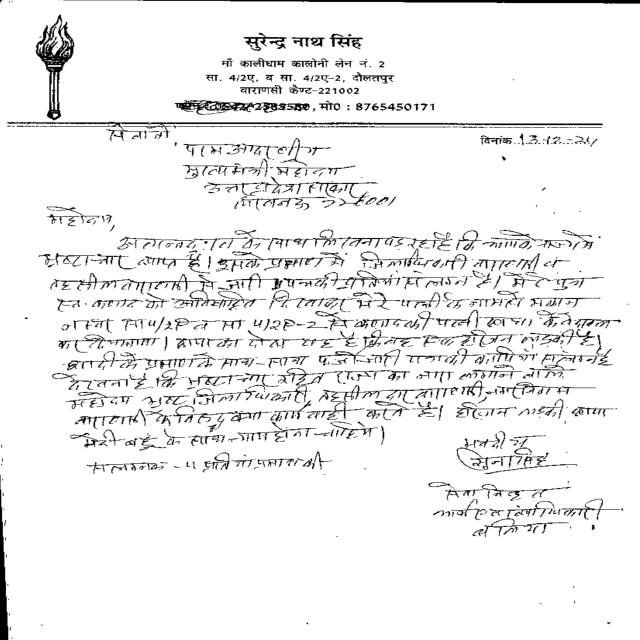partylogo: (19, 6, 79, 124)
